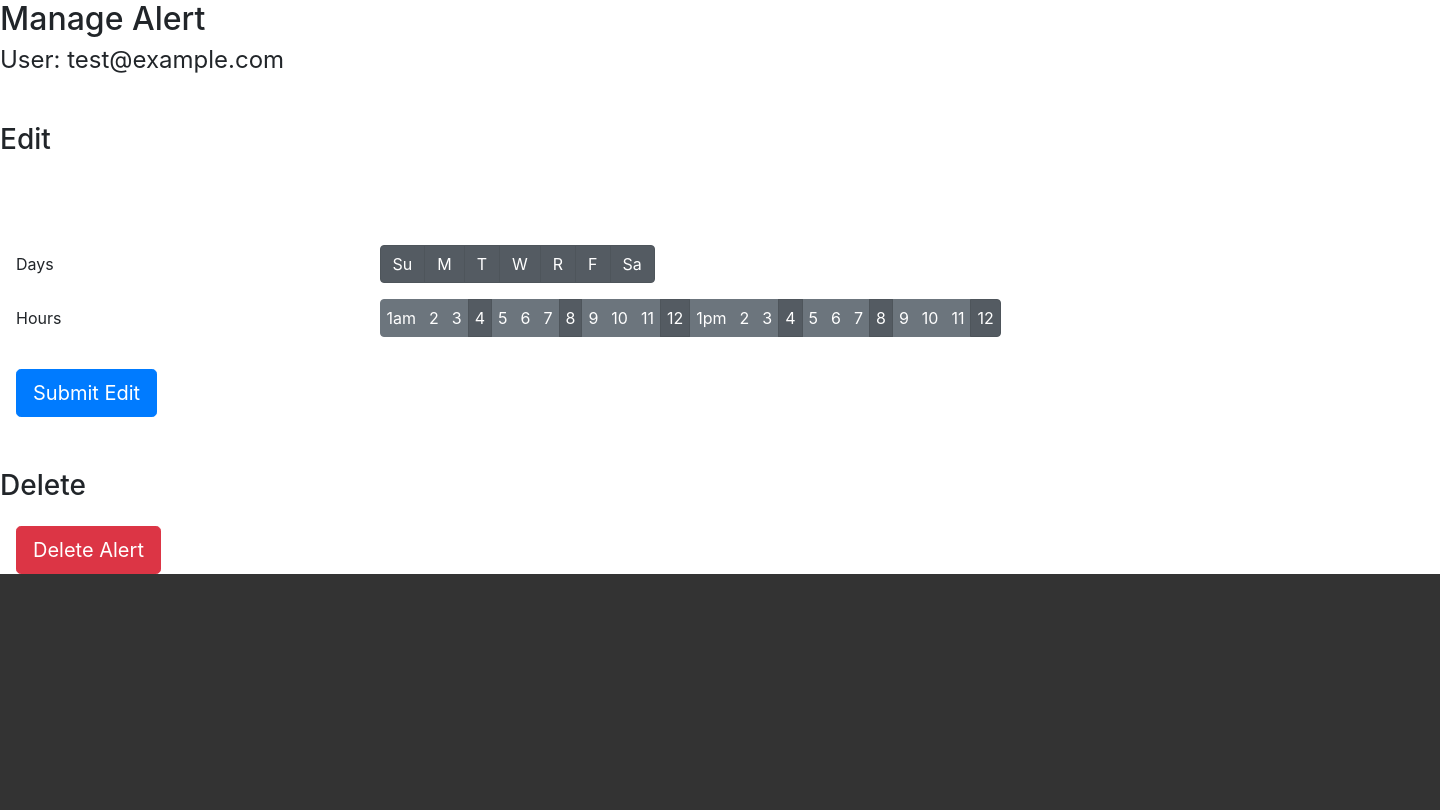
AlertPage › should show error message if delete failed
Click the button "Delete Alert".
click(88, 550)  # box [16,526,161,574]
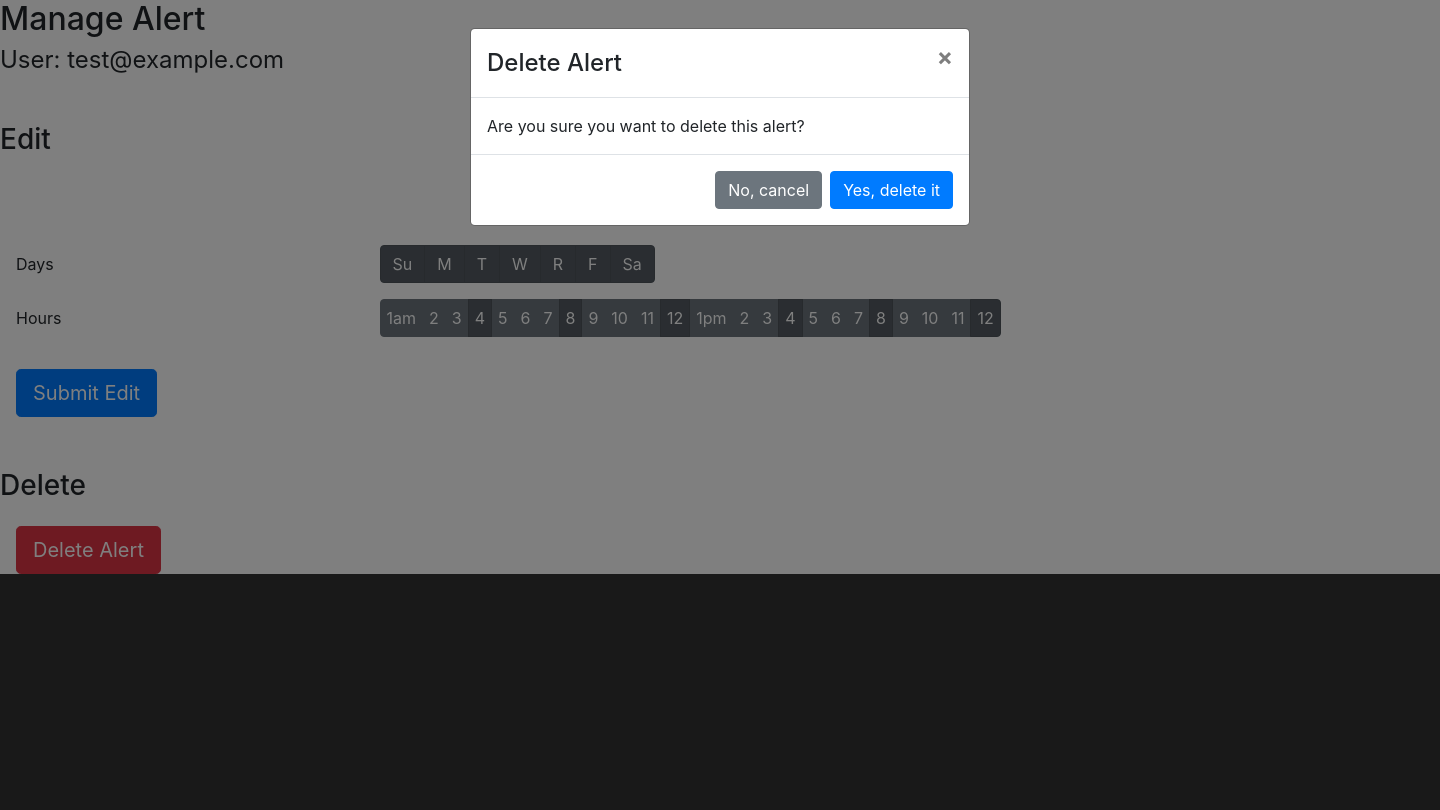
expect the text "Are you sure you want to delete this alert?" is shown: met, box [487,116,805,136]
Click the button "Yes, delete it".
click(892, 190)  # box [830,171,953,209]
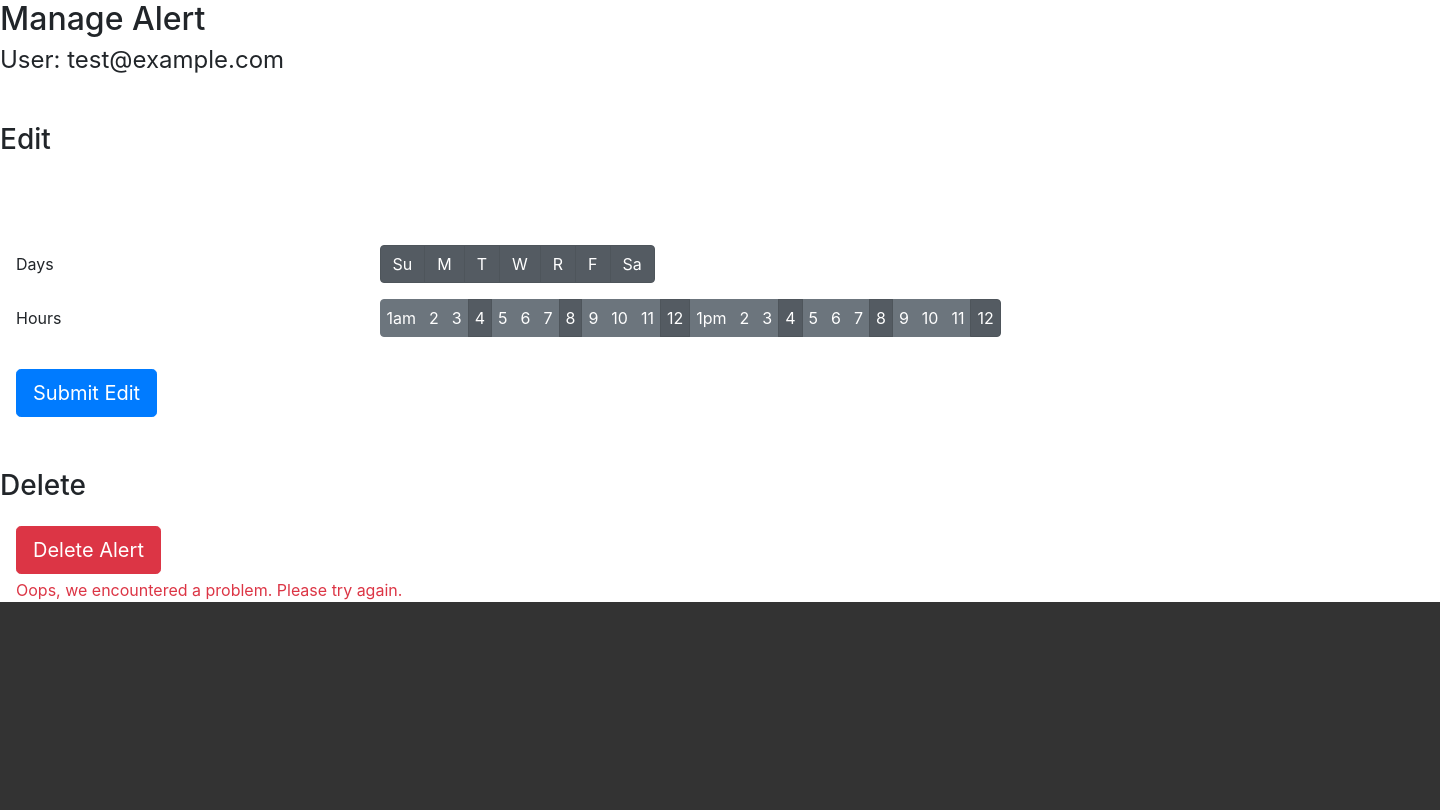
expect the text "Oops" is shown: met, box [16,580,402,600]
